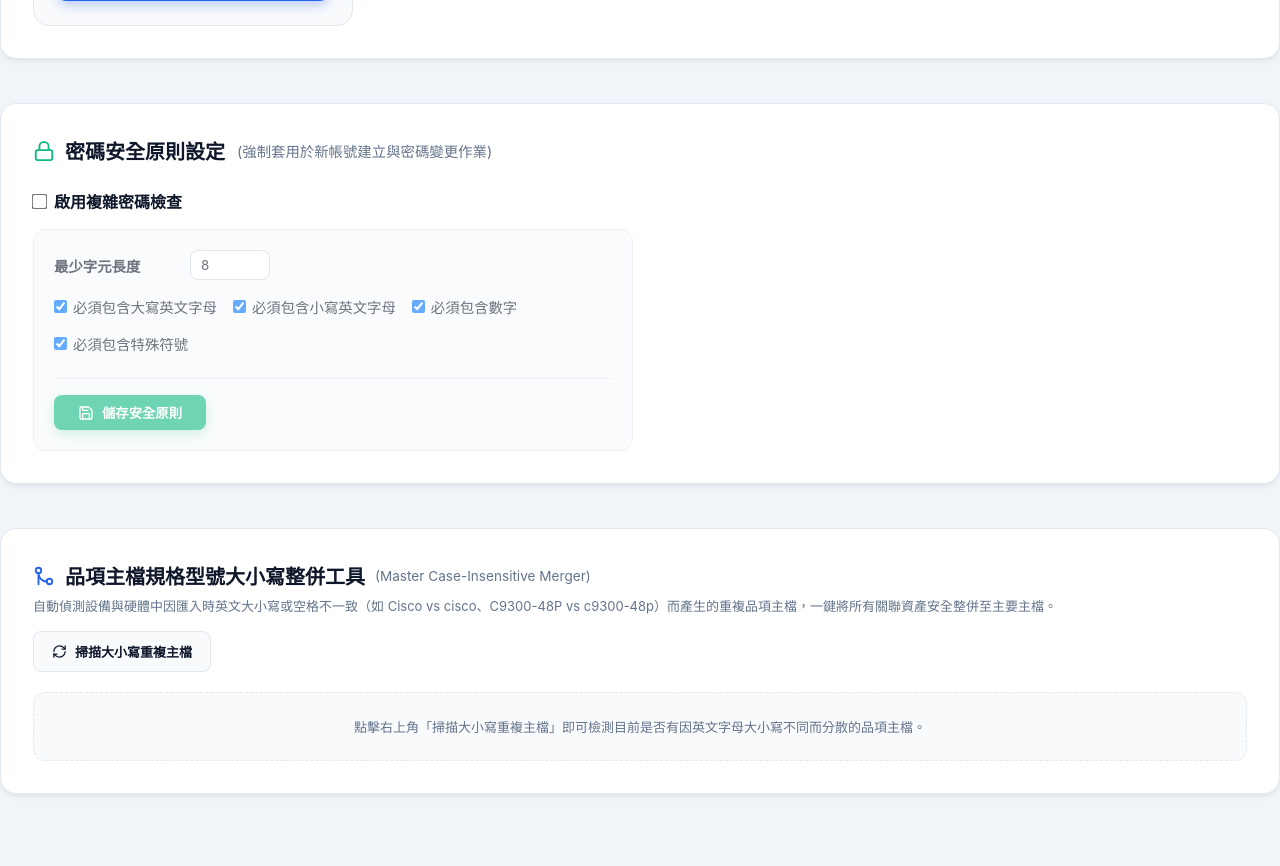
品項主檔規格型號大小寫不區分比對 (Case-Insensitive) 與整併測試 › Settings 頁面應能呈現品項主檔大小寫整併工具，並執行掃描與整併操作
The image size is (1280, 866).
(page scrolled)
expect the heading "品項主檔規格型號大小寫整併工具" is shown: met, box [33,561,365,590]
Note: 點擊「掃描大小寫重複主檔」按鈕
Click the button with test id "scan-duplicates-btn" at {"x": 122, "y": 652}, box [33,631,211,672]
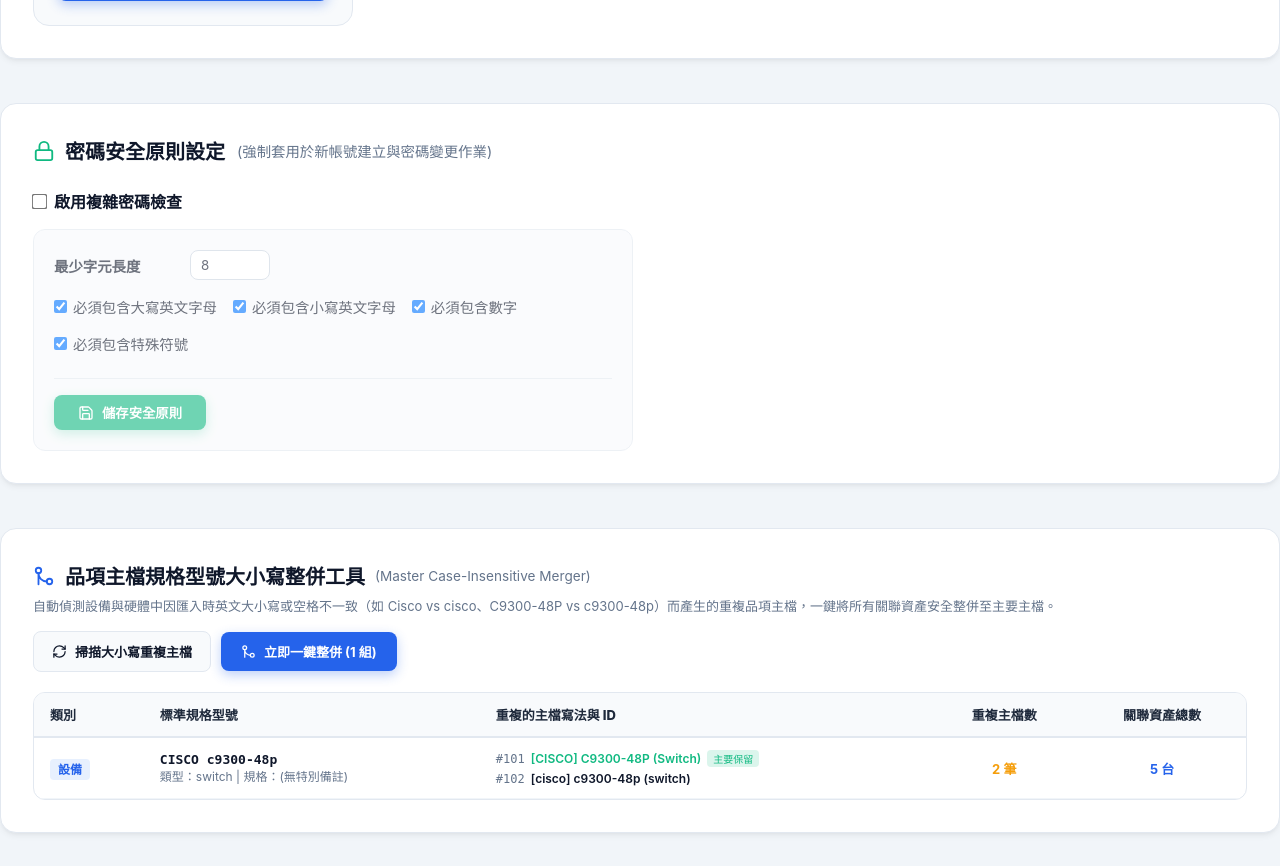
expect the text "CISCO c9300-48p" is shown: met, box [160,752,277,767]
expect the text "[CISCO] C9300-48P (Switch)" is shown: met, box [531,751,701,766]
expect the text "[cisco] c9300-48p (switch)" is shown: met, box [531,771,691,786]
Note: 點擊「立即一鍵整併」按鈕
Click the button with test id "merge-duplicates-btn" at {"x": 309, "y": 652}, box [221,632,397,671]
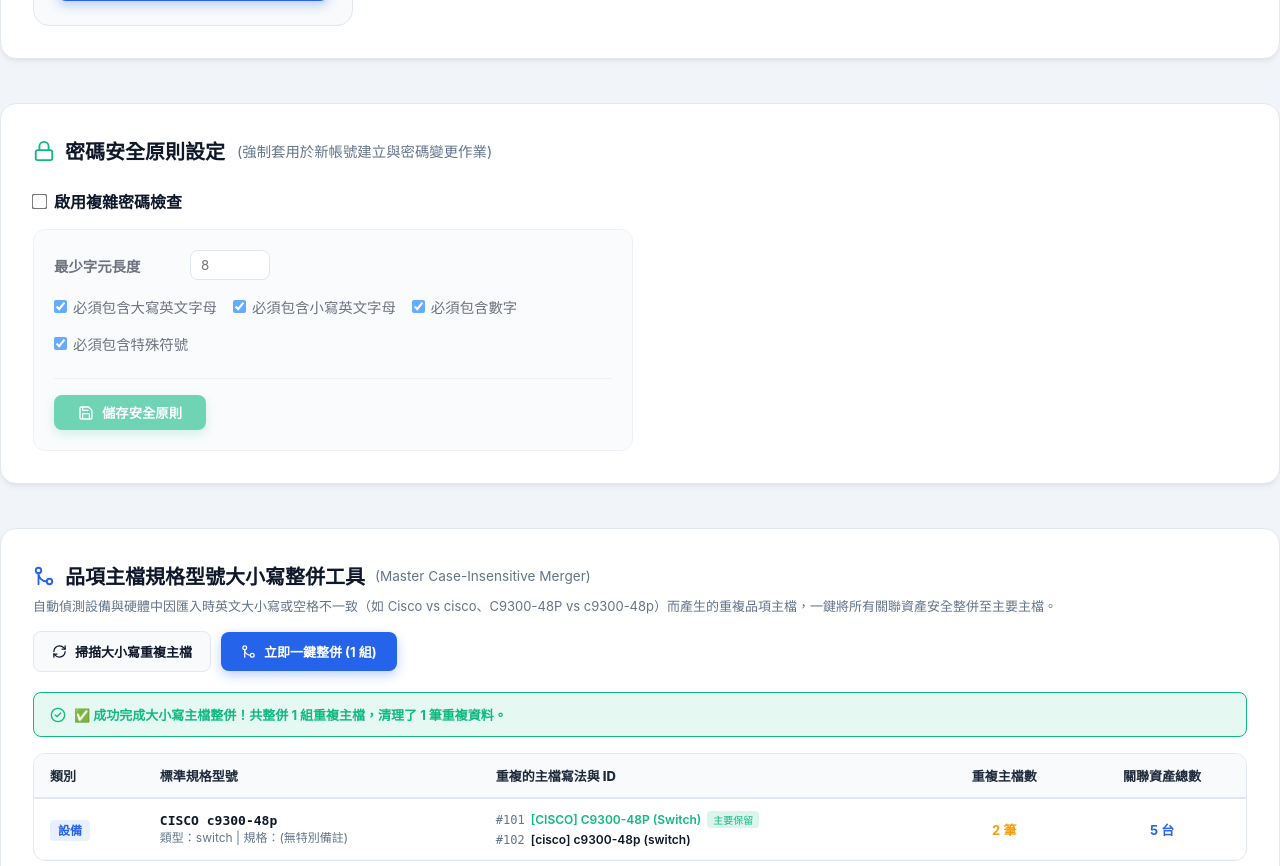
expect the text "✅ 成功完成大小寫主檔整併！共整併 1 組重複主檔，清理了 1 筆重複資料。" is shown: met, box [33,692,1247,737]
